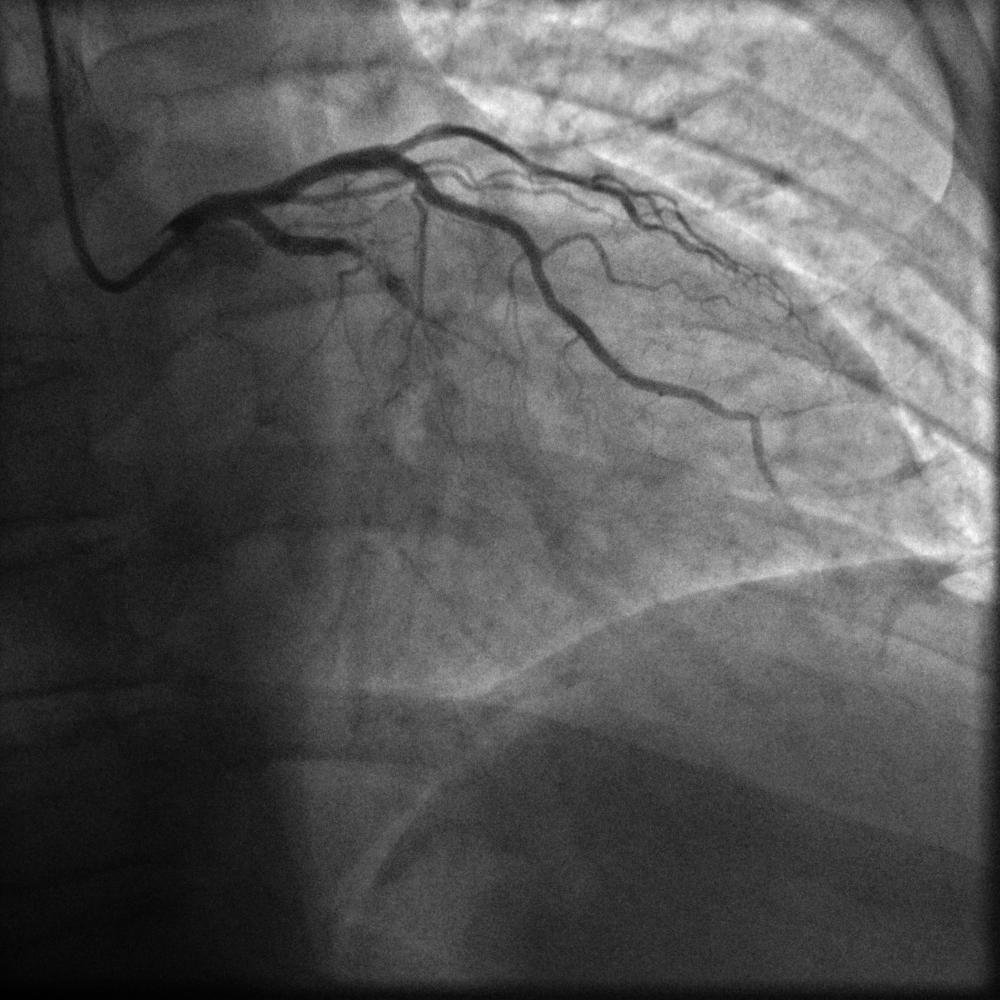Stenosis: (336, 235, 390, 282)
